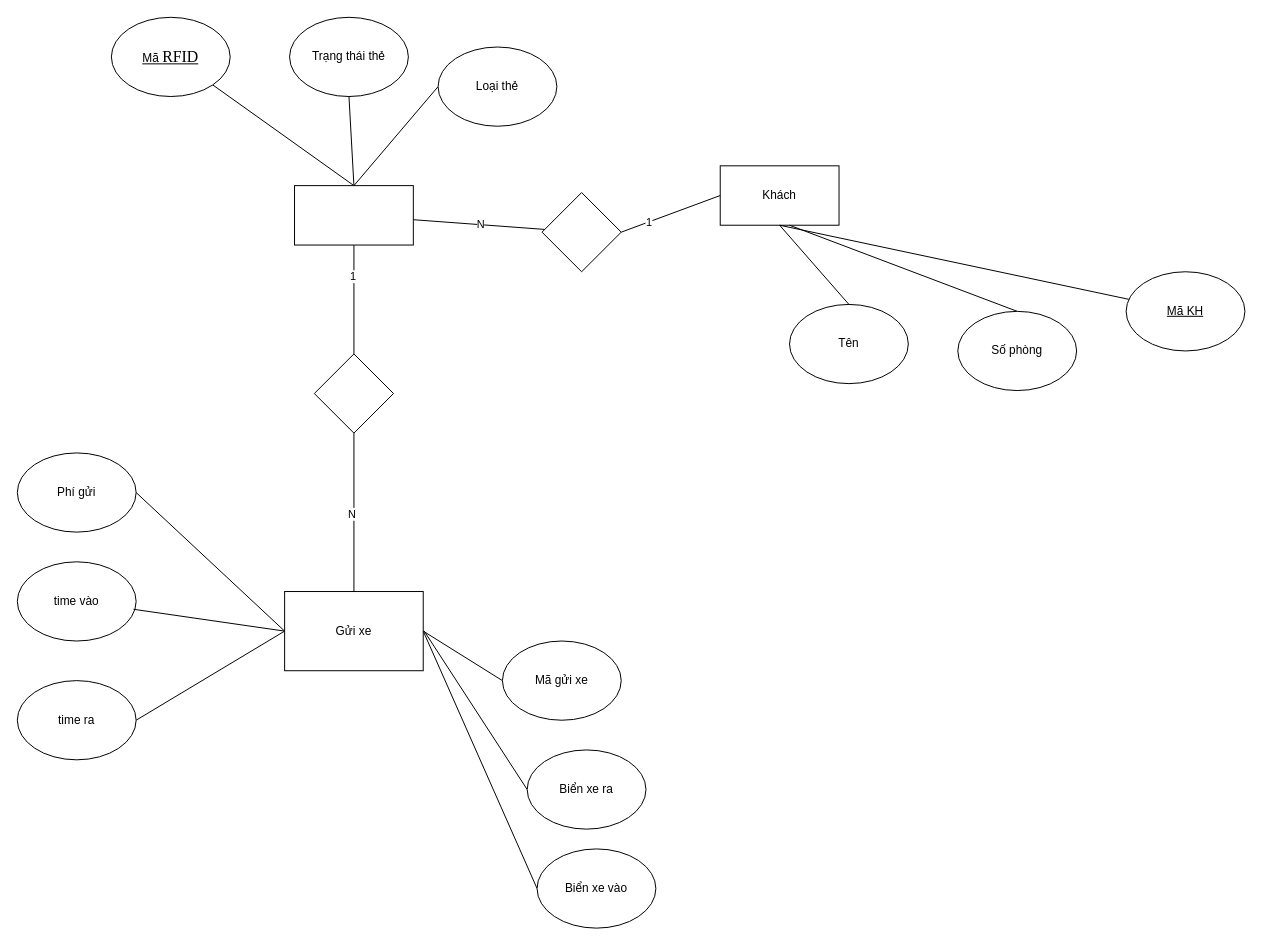
Image size: 1262x945. Some labels were removed from this diagram. Here are the shapes that lost their labels. From the top down, the box of each, then its label:
(294, 185, 413, 245): Thẻ
(541, 192, 621, 272): Đăng ký
(313, 353, 394, 433): gửi
